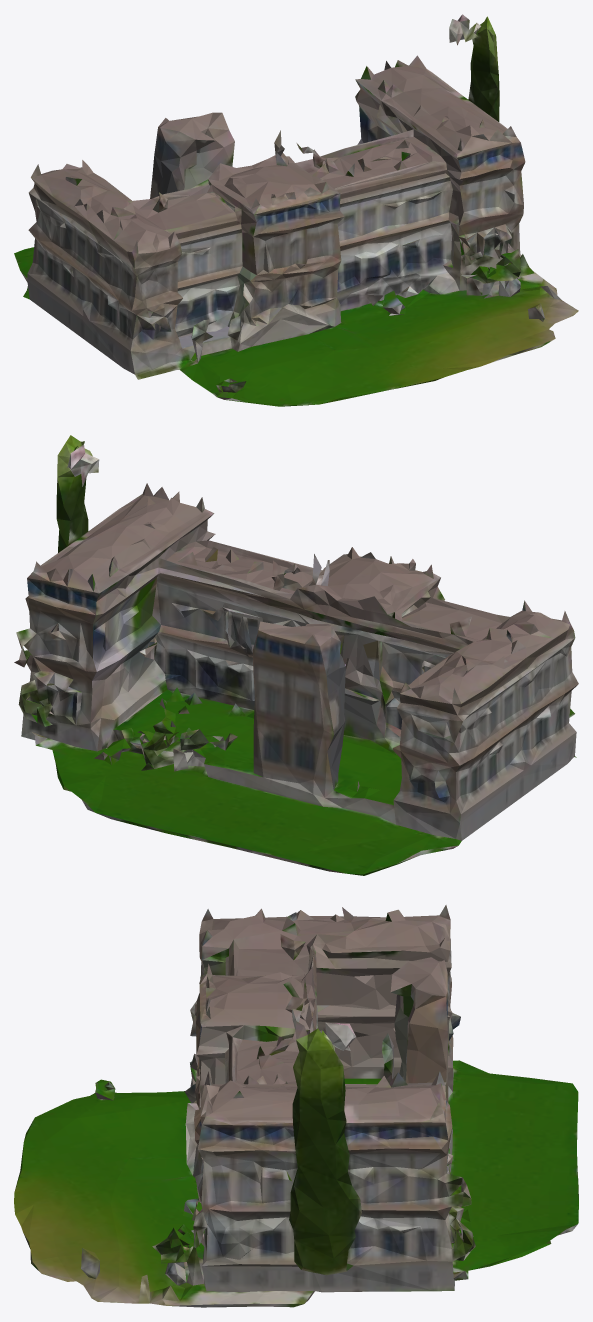
File: villa_parco.glb
The picture shows the model from 3 angles, top to bottom: view 1: azimuth 30°, elevation 25°; view 2: azimuth 150°, elevation 25°; view 3: azimuth 270°, elevation 25°; orthographic projection. The views are drawn at different scales.
Visible parts, largest first — view 1: tmp60jc2vcb.ply; view 2: tmp60jc2vcb.ply; view 3: tmp60jc2vcb.ply.
Part boxes in pixels (x1=…): tmp60jc2vcb.ply: x1=14, y1=14, x2=578, y2=406; tmp60jc2vcb.ply: x1=14, y1=435, x2=578, y2=875; tmp60jc2vcb.ply: x1=14, y1=905, x2=578, y2=1307.
Bounding box in the file's own units: 1.99 × 1.06 × 1.97.
Materials: 1 (1 with a texture image).
